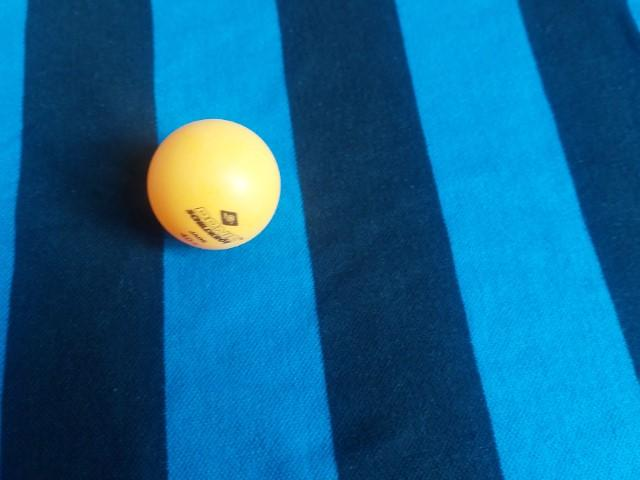oball: (140, 114, 287, 259)
